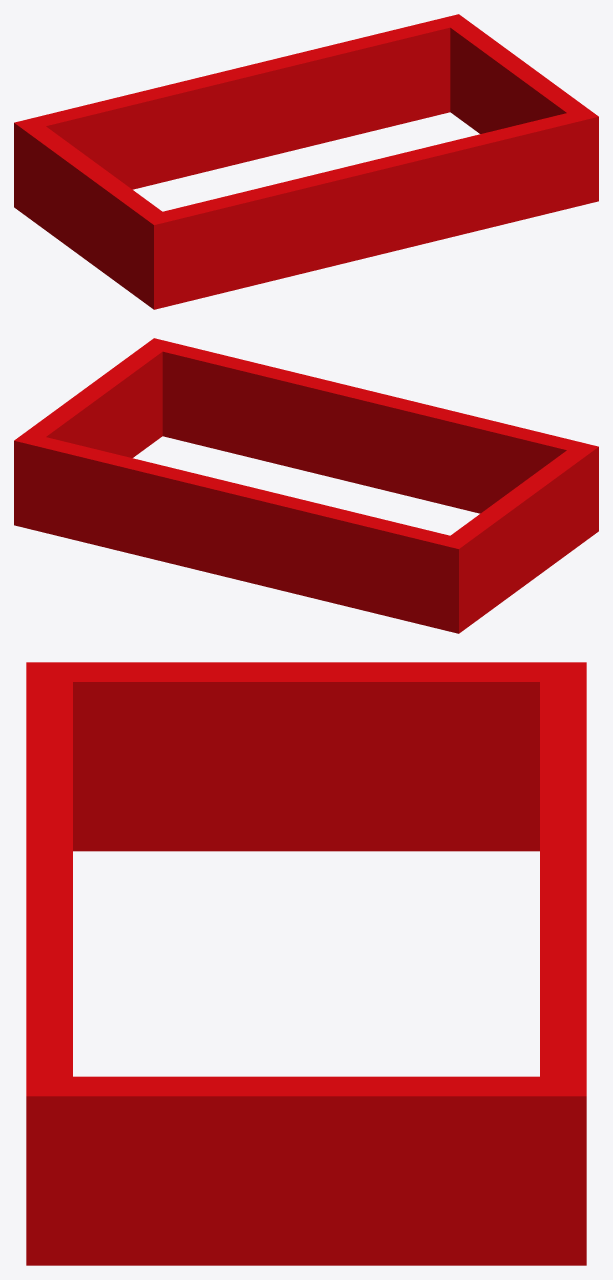
The model's file is world_two_wall.dae.
3 views of the same model, one above another, from view 1: azimuth 30°, elevation 25°; view 2: azimuth 150°, elevation 25°; view 3: azimuth 270°, elevation 25° (orthographic). The views are drawn at different scales.
Visible parts, largest first — view 1: world_two_wall; view 2: world_two_wall; view 3: world_two_wall.
Boxes of the visible parts, x1,y1,x2,y2 form: world_two_wall: (14,14,598,309); world_two_wall: (14,338,598,633); world_two_wall: (26,662,586,1265).
Bounding box in the file's own units: 11 × 6 × 2.
